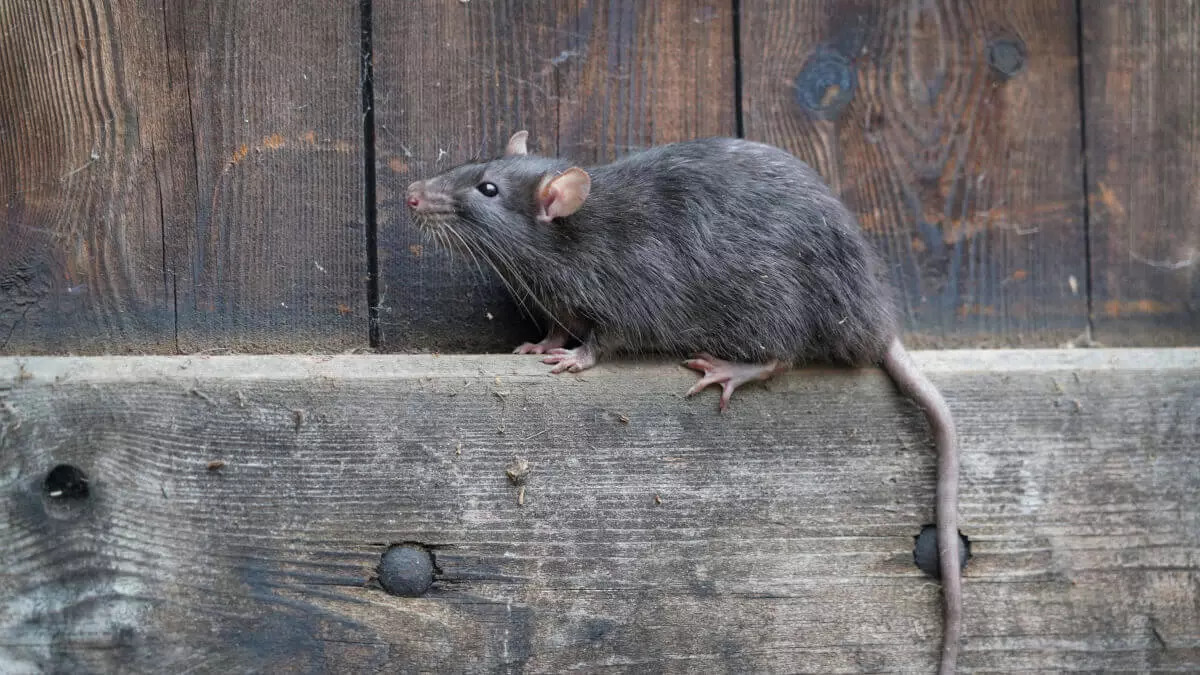rat: (401, 127, 964, 674)
